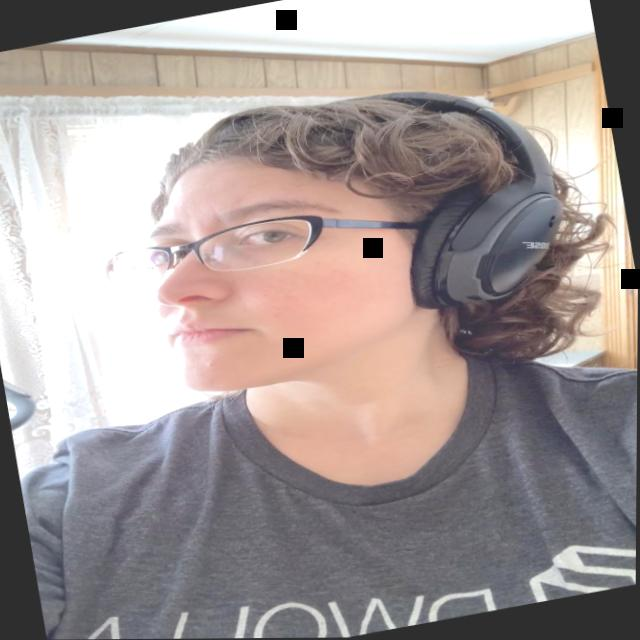NO-Mask: (128, 115, 466, 406)
